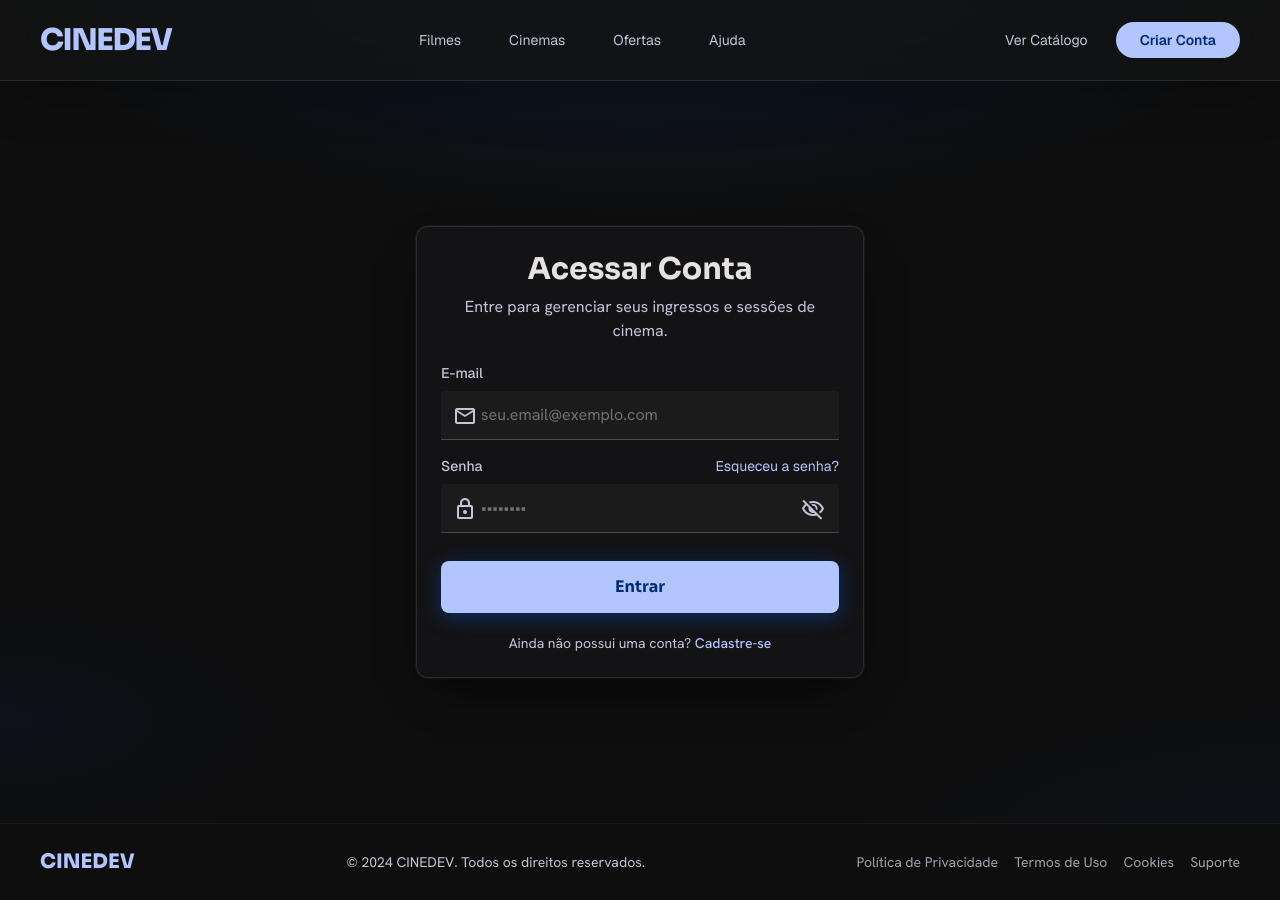
Test case: LoginPage › shows validation error when submitting with empty password
Type "user@example.com" into the field labelled "E-mail". click: (640, 416)
box: [441,391,839,440]
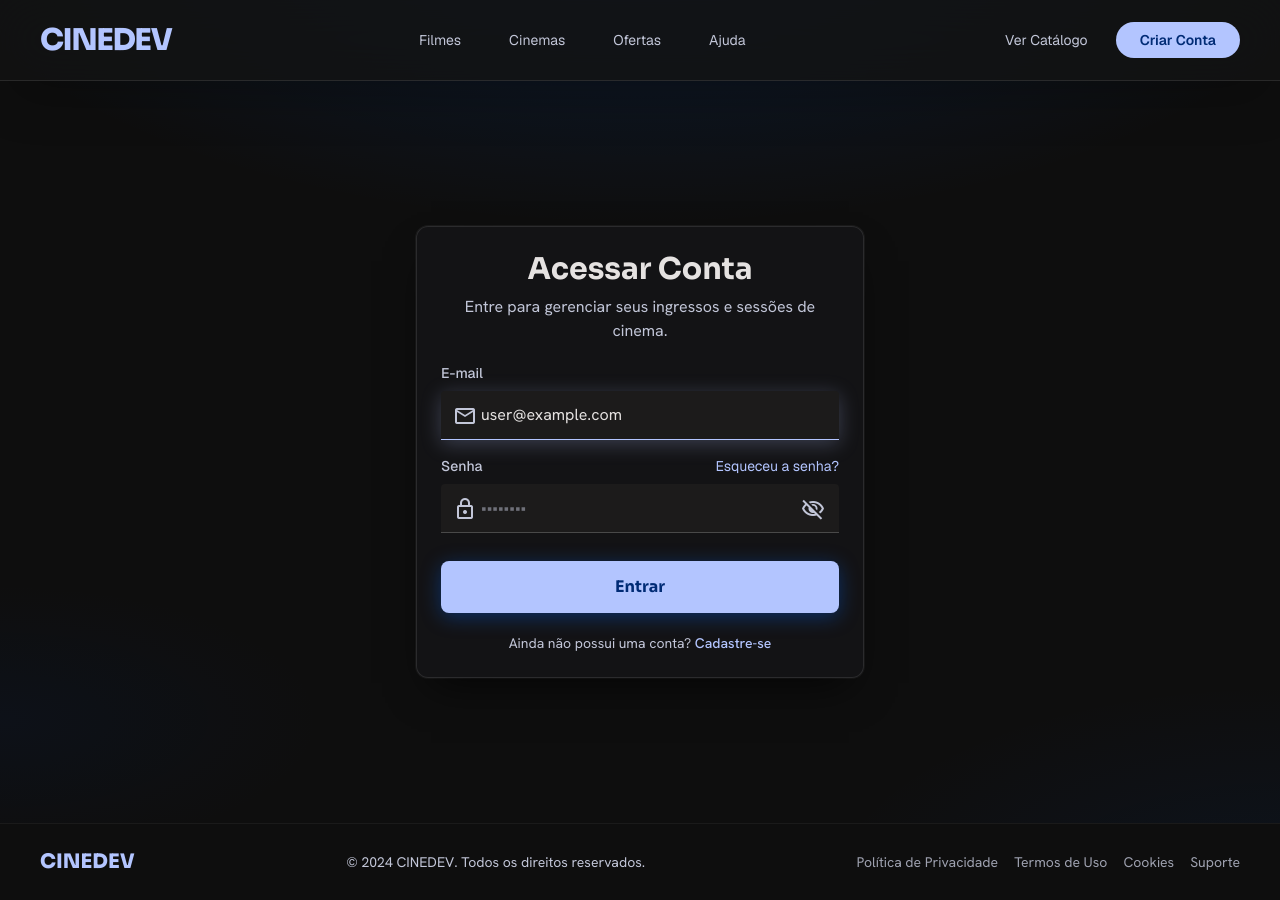
Click the button "Entrar". click: (640, 587)
box: [441,561,839,613]
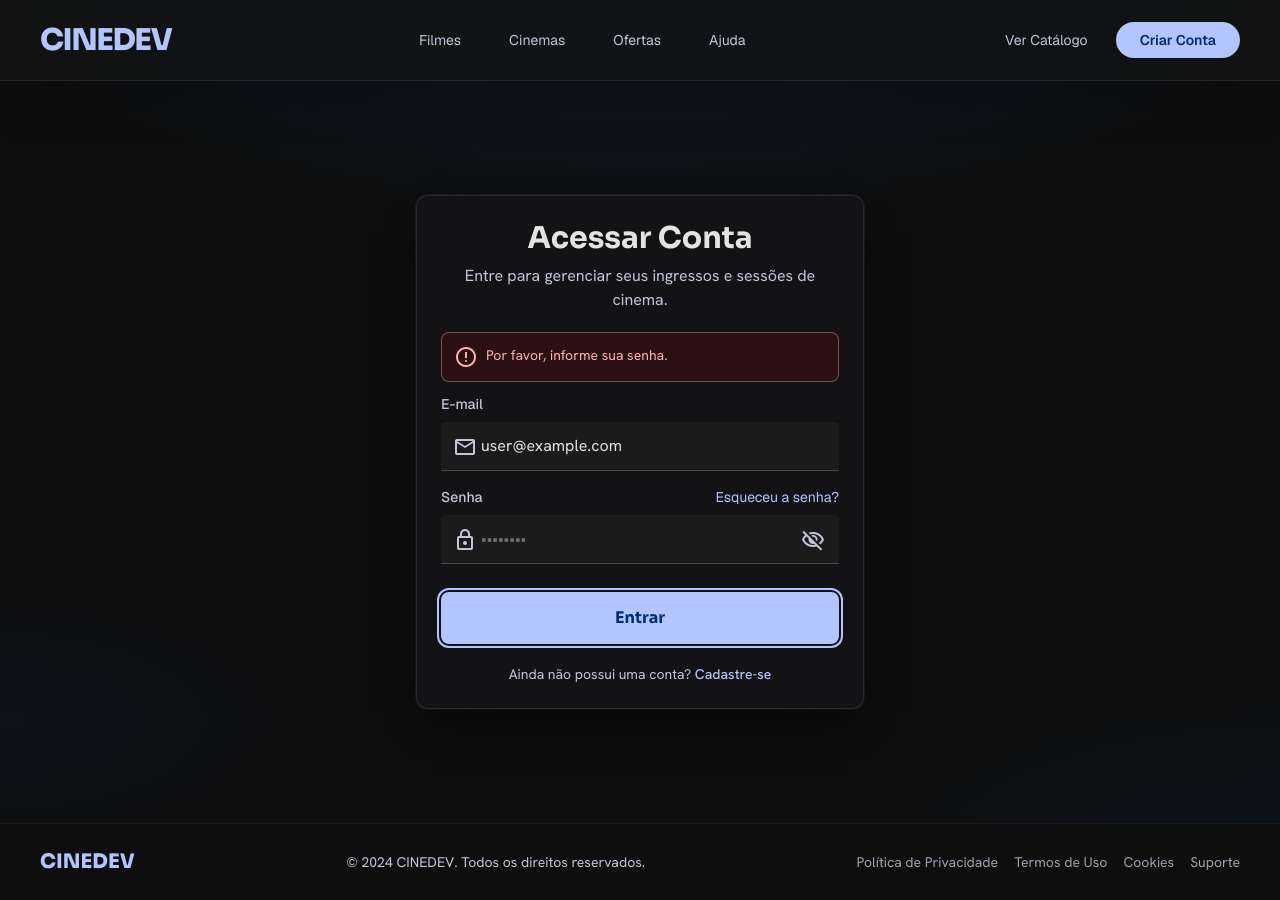
Expected: the message reads "Por favor, informe sua senha.", [486,346,668,364]
